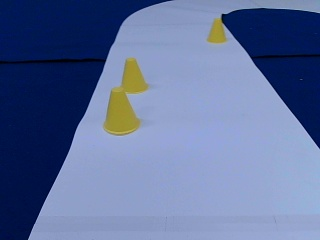cone: (103, 88, 140, 133), (120, 58, 147, 92), (207, 18, 225, 43)
